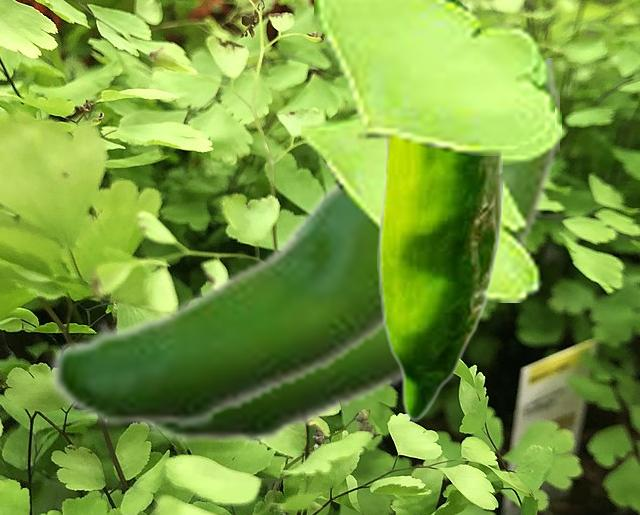green_chili: (129, 58, 558, 447), (47, 113, 385, 430), (377, 0, 501, 420)
